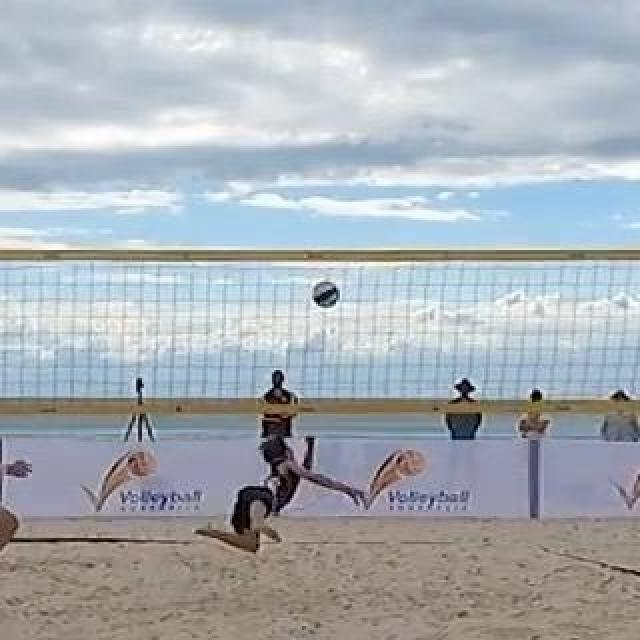volleyball: (314, 281, 338, 307)
